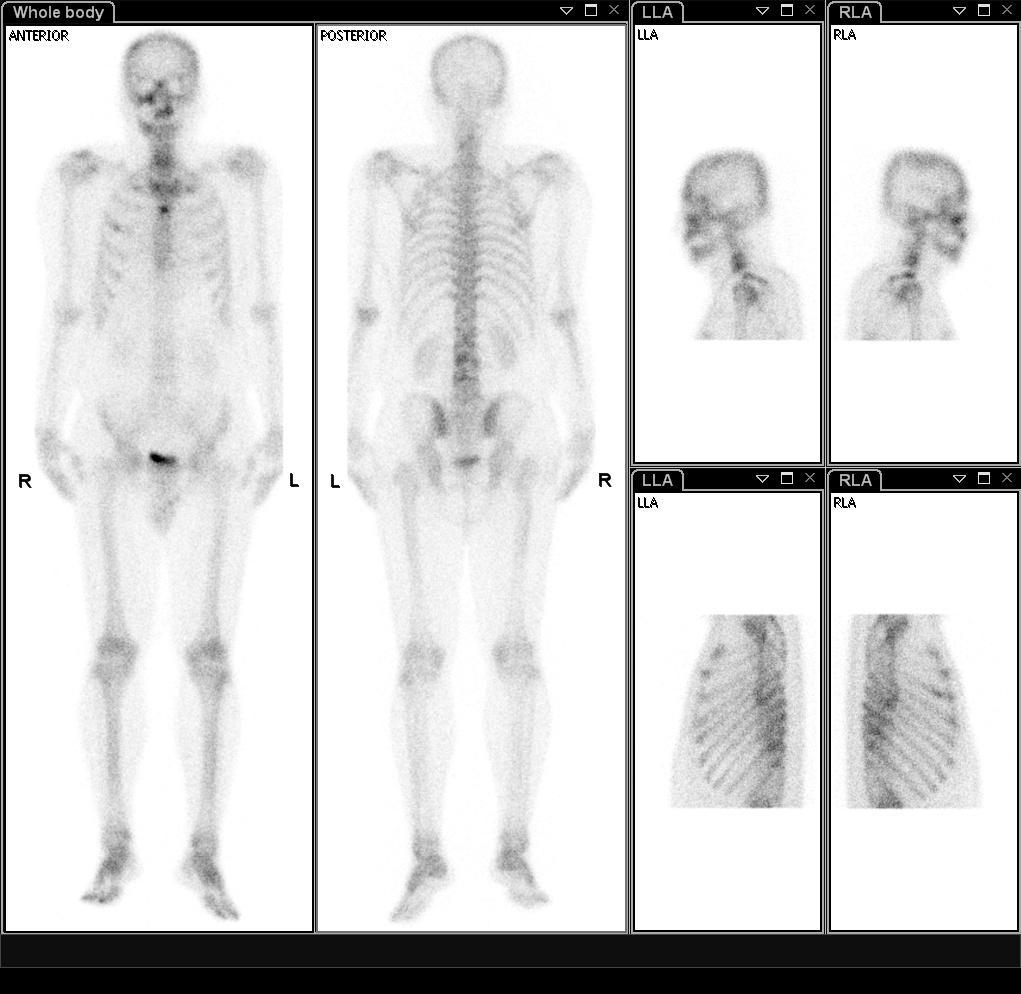person: (3, 24, 624, 930)
